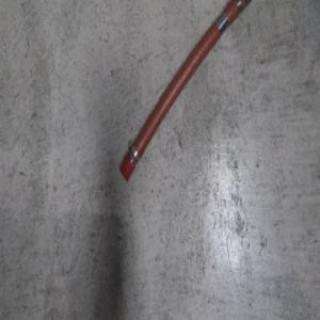Hosetrack_idkeyframe: (116, 0, 250, 182)
